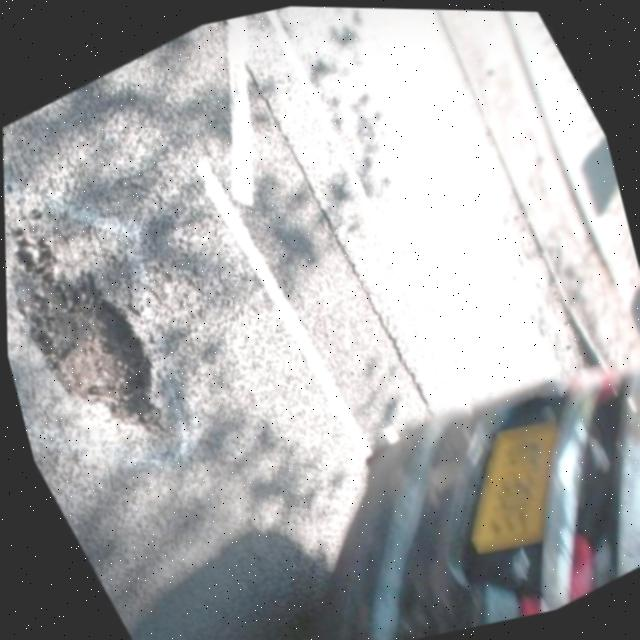Pothole: (3, 199, 206, 472)
